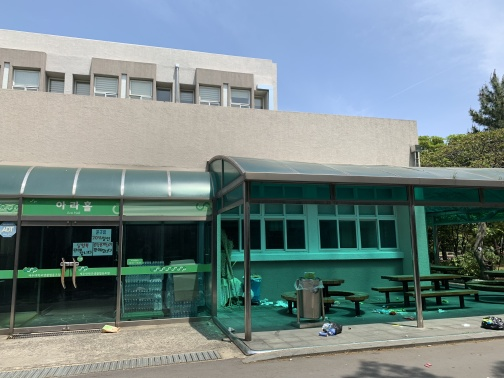Ara Hall: (1, 142, 503, 359)
